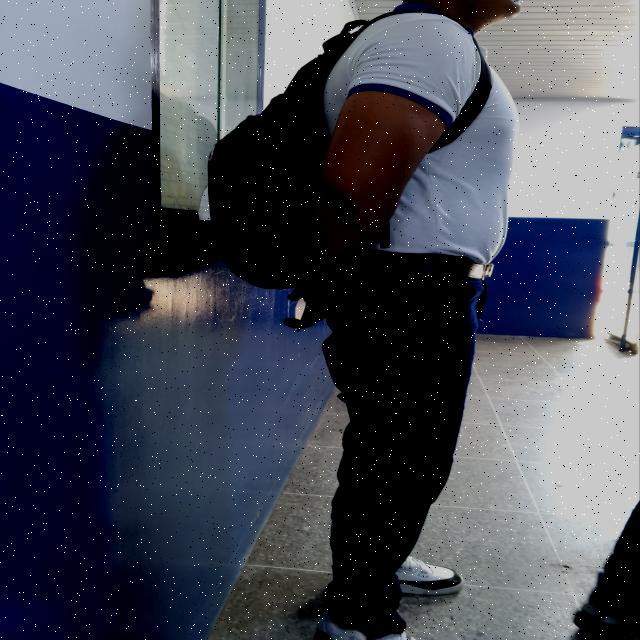pantalon_oscuro: (321, 263, 489, 640)
uniforme_superior: (321, 0, 521, 265)
